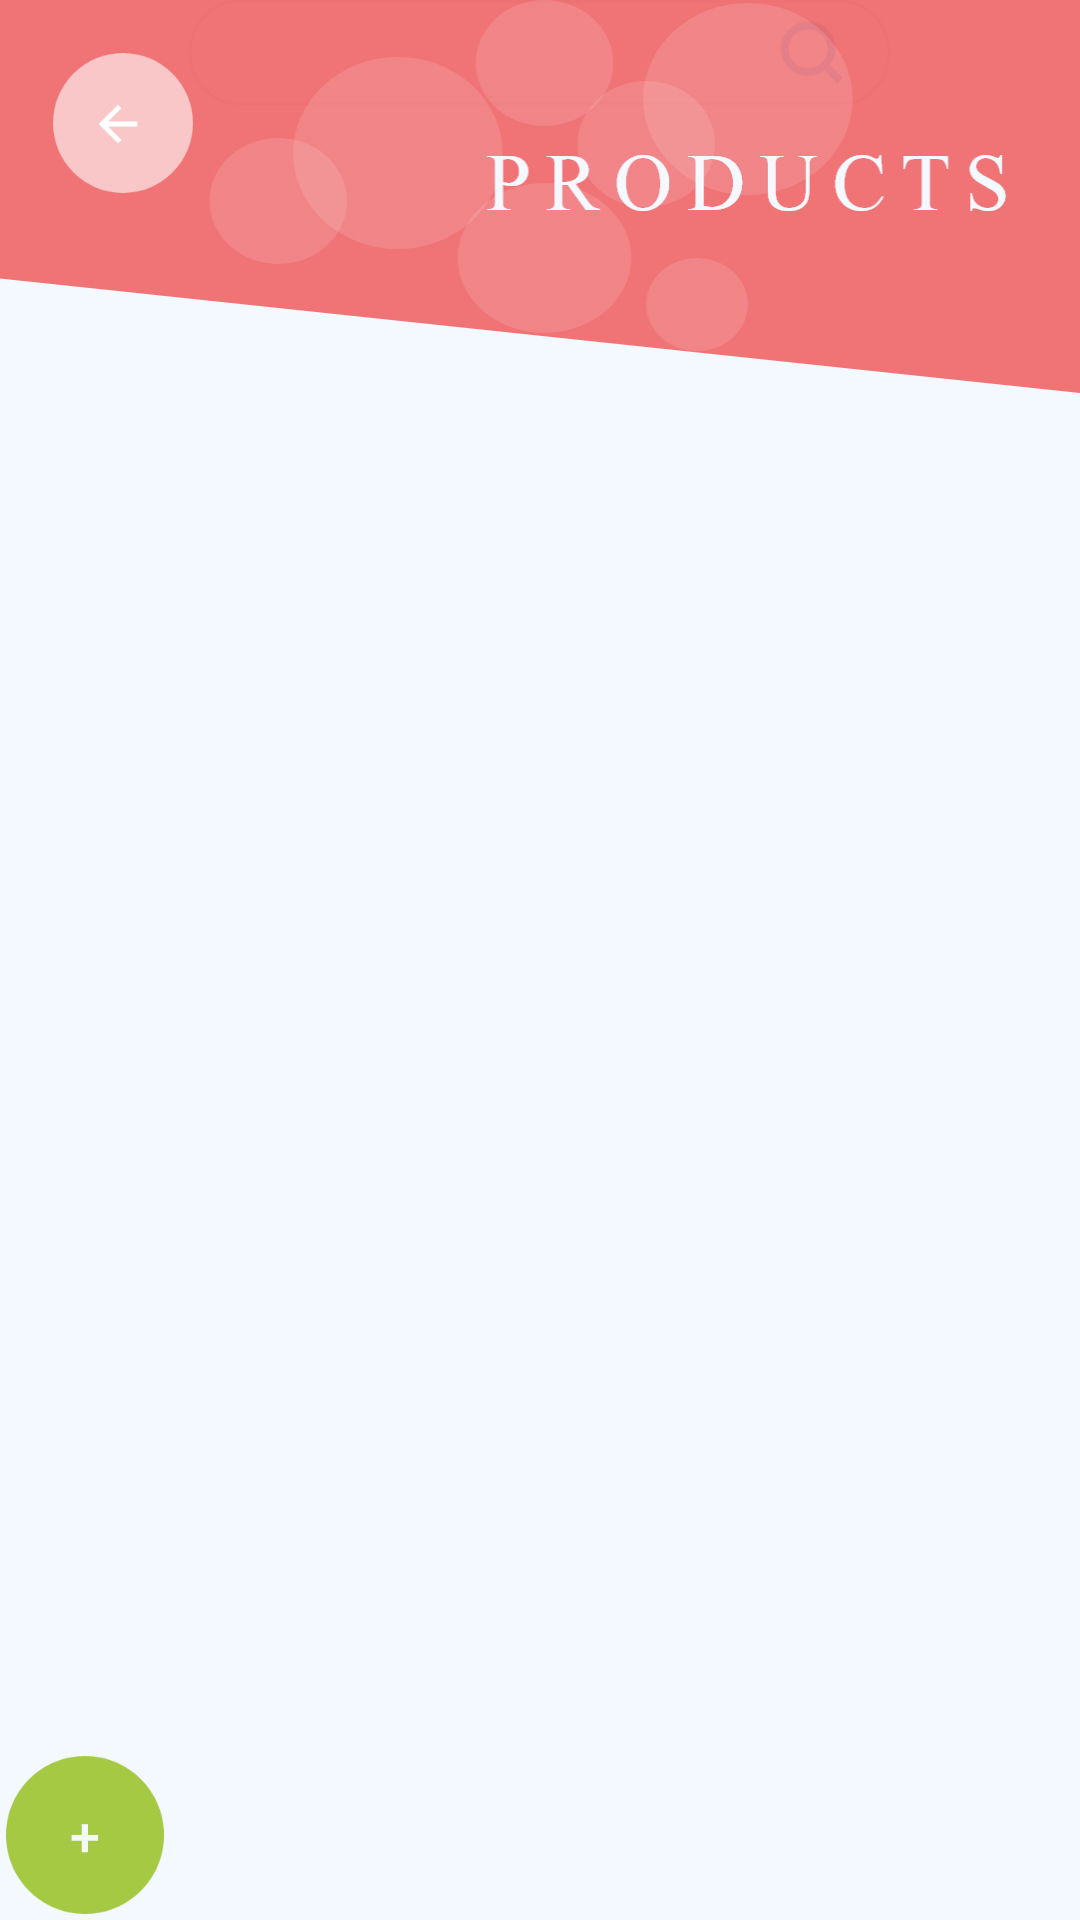

Where icons sit on this 1080 × 1920 app screen, as [left=x1, top=y1, right=x2, bottom=y2]:
arrow: [left=53, top=53, right=193, bottom=193]
